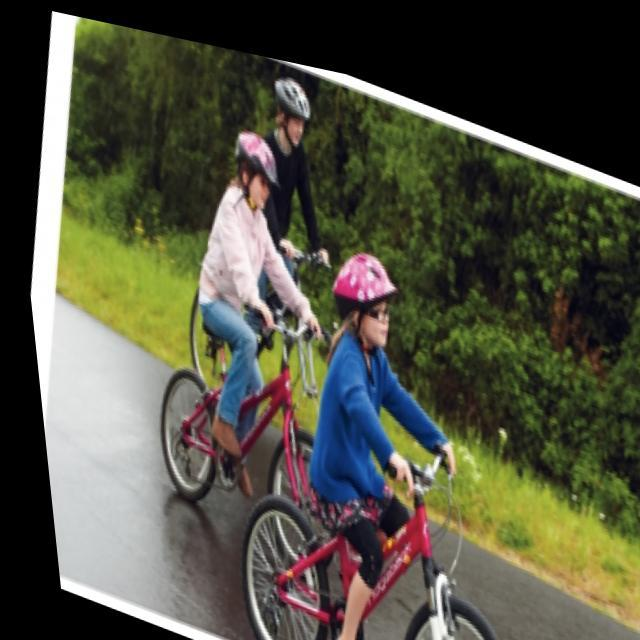Helmet: (326, 247, 405, 354), (223, 125, 282, 218), (260, 66, 312, 150)
